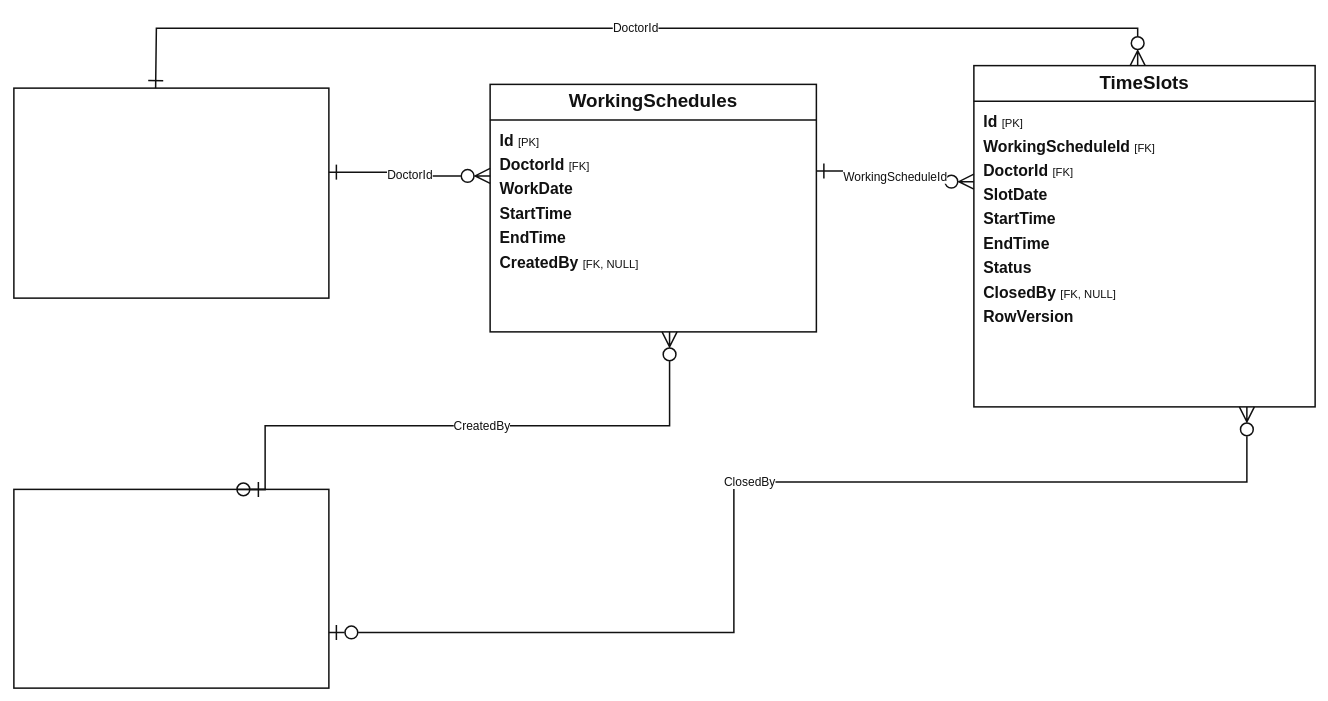
Image size: 1328x701. Some labels were removed from this diagram. Each missing label, with the box of its shape:
Doctors (tham chiếu) Id [PK] DoctorCode [UK]: (13, 87, 329, 298)
Users (tham chiếu) Id [PK] Username [UK]: (13, 488, 329, 688)
